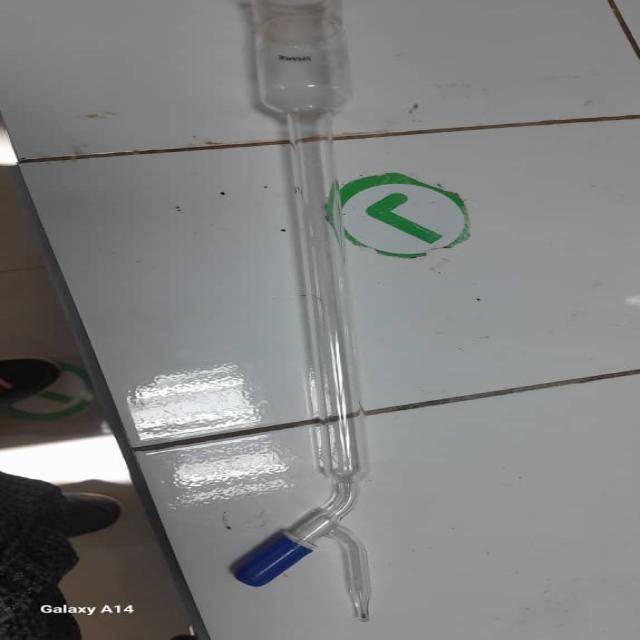Column Chromatography: (222, 4, 390, 622)
